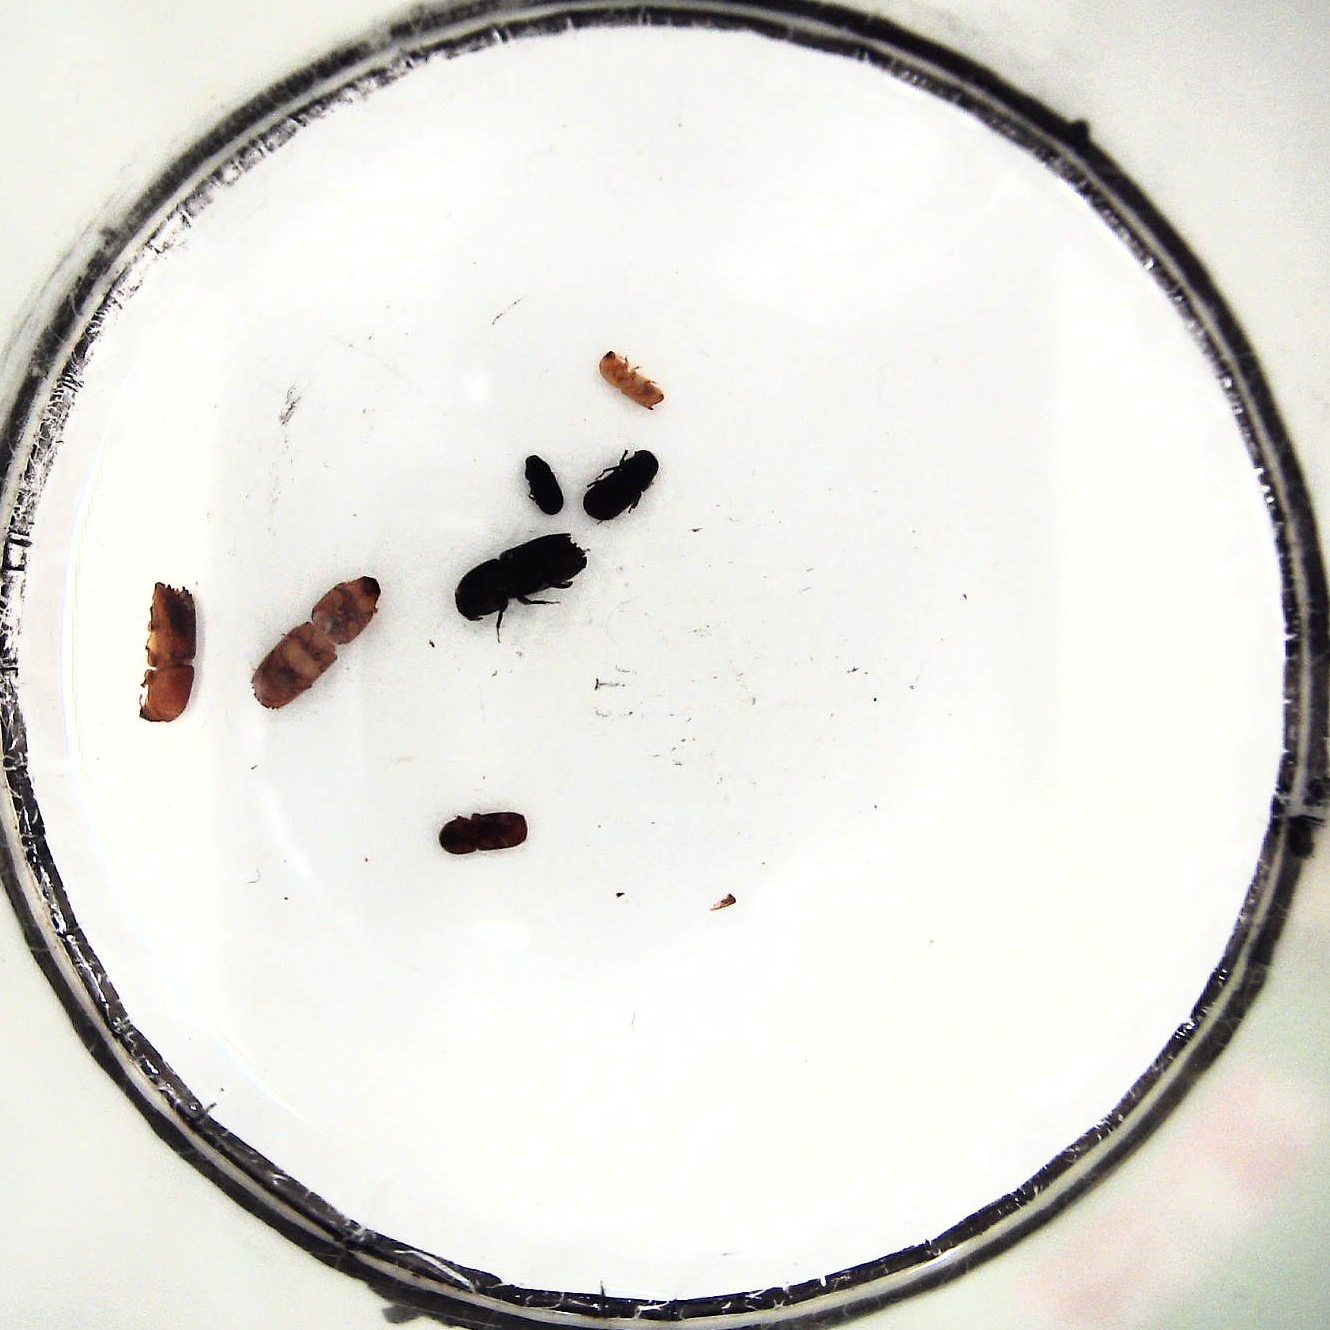Boerner: (246, 574, 384, 714), (454, 530, 589, 639), (134, 577, 201, 728)
Linnaeus: (435, 809, 530, 854)
acuminatus: (596, 348, 665, 413)
armandi: (581, 449, 658, 525)
coleoptera: (521, 453, 568, 515)
